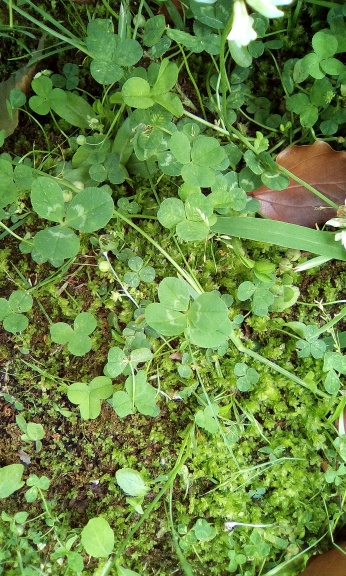4leaf: (144, 276, 232, 348)
